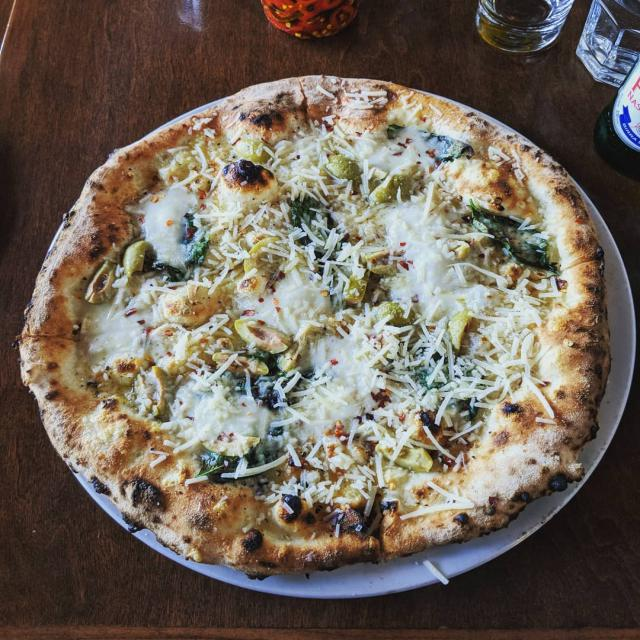basil: (468, 198, 560, 275), (385, 124, 477, 164), (236, 369, 313, 410), (195, 450, 258, 486)
green_olives: (234, 318, 291, 354), (82, 258, 121, 306), (368, 169, 413, 206), (378, 442, 433, 472), (244, 234, 281, 273), (212, 352, 269, 377), (202, 436, 262, 457), (446, 310, 474, 350), (123, 240, 151, 278), (324, 156, 362, 179), (365, 251, 400, 275), (236, 140, 274, 162), (378, 302, 414, 324), (450, 241, 470, 262)
pizza: (17, 76, 612, 581)
